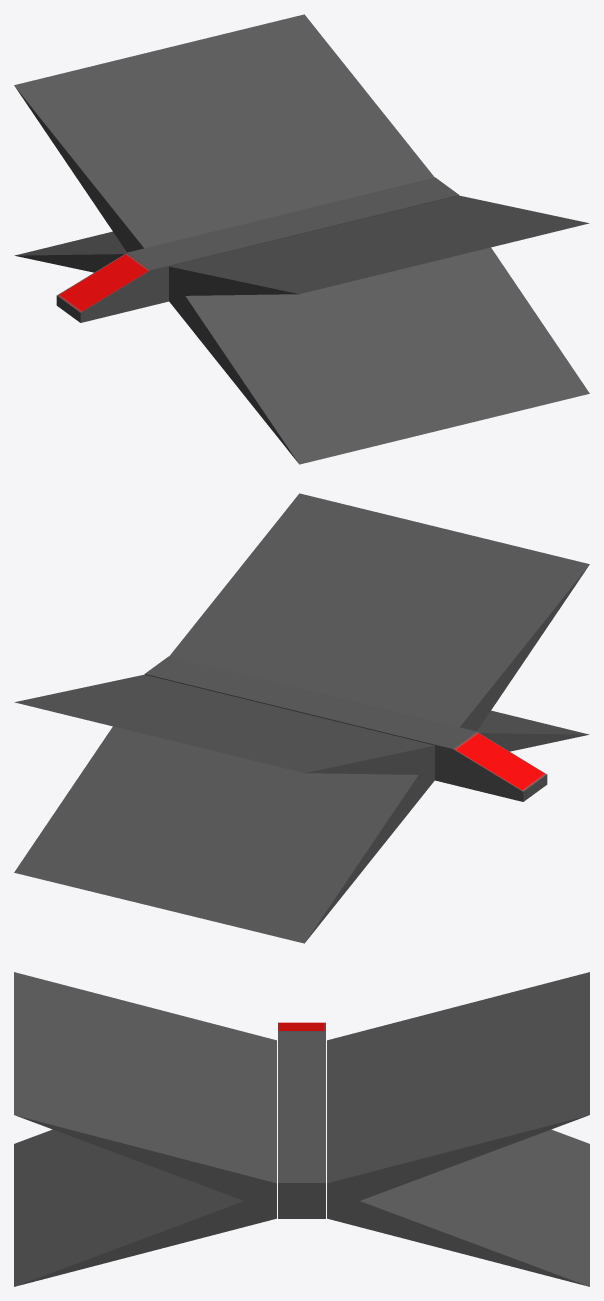
Rendered from wingEnemy.obj.
The picture shows the model from 3 angles, top to bottom: view 1: azimuth 30°, elevation 25°; view 2: azimuth 150°, elevation 25°; view 3: azimuth 270°, elevation 25°; orthographic projection.
Visible parts, largest first — view 1: 立方体; view 2: 立方体; view 3: 立方体.
Boxes of the visible parts, bbox=[...] form: 立方体: bbox=[14, 14, 589, 464]; 立方体: bbox=[14, 493, 589, 943]; 立方体: bbox=[14, 972, 589, 1286].
Bounding box in the file's own units: 0.3553 × 0.1528 × 0.464.
